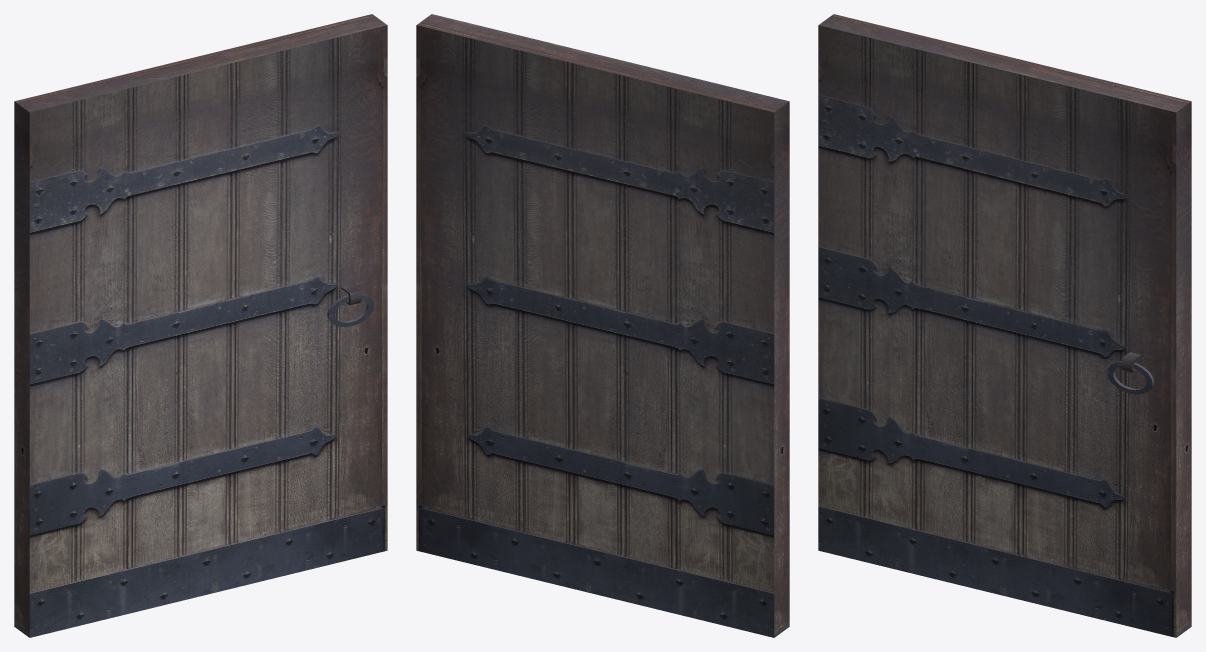
File: Door_M.fbx
The picture shows the model from 3 angles, left to right: view 1: azimuth 30°, elevation 25°; view 2: azimuth 150°, elevation 25°; view 3: azimuth 330°, elevation 25°; orthographic projection.
Visible parts, largest first — view 1: Door_M; view 2: Door_M; view 3: Door_M.
Part boxes in pixels (x1,y1,x2,y2): Door_M: (14, 14, 387, 637); Door_M: (416, 14, 789, 637); Door_M: (818, 14, 1191, 637).
Bounding box in the file's own units: 3.76 × 5.28 × 0.4555.
Materials: 1 (1 with a texture image).
